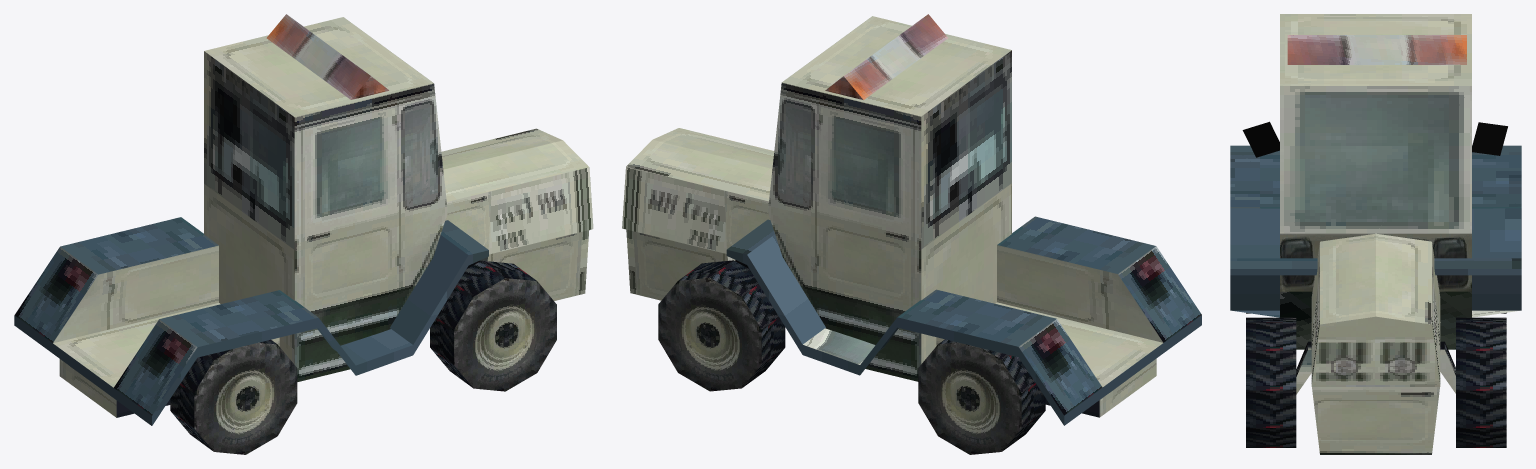
The model's file is LilleTruck.glb.
3 views of the same model, side by side, from view 1: azimuth 30°, elevation 25°; view 2: azimuth 150°, elevation 25°; view 3: azimuth 270°, elevation 25° (orthographic). The views are drawn at different scales.
Visible parts, largest first — view 1: Cube; view 2: Cube; view 3: Cube, Plane, Plane_001.
Part boxes in pixels (x1,y1,x2,y2): Cube: (14,14,593,454); Cube: (622,14,1201,454); Cube: (1230,14,1521,454); Plane: (1472,122,1507,155); Plane_001: (1242,121,1279,157).
Bounding box in the file's own units: 8.84 × 5.8 × 4.39.
Materials: 3 (1 with a texture image).
